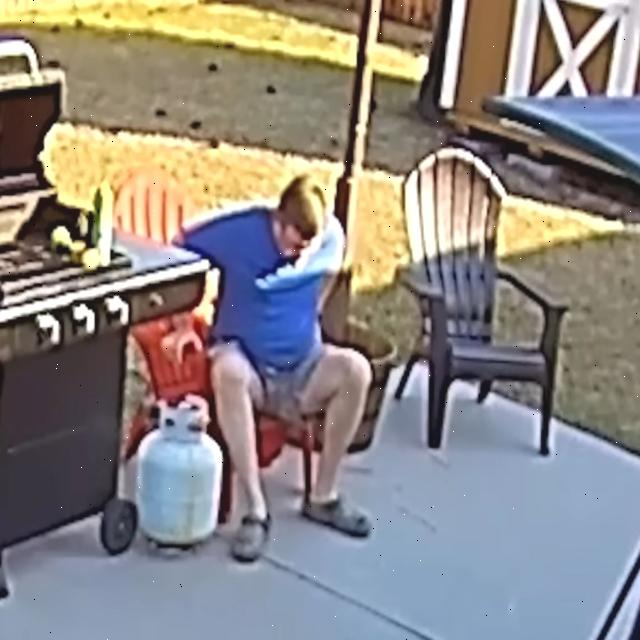sitting: (175, 176, 372, 561)
